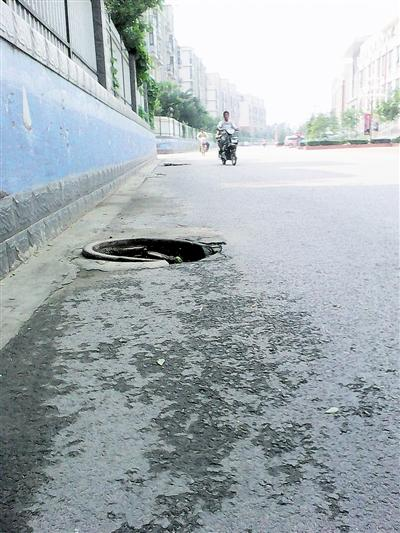broke: (68, 220, 250, 287)
